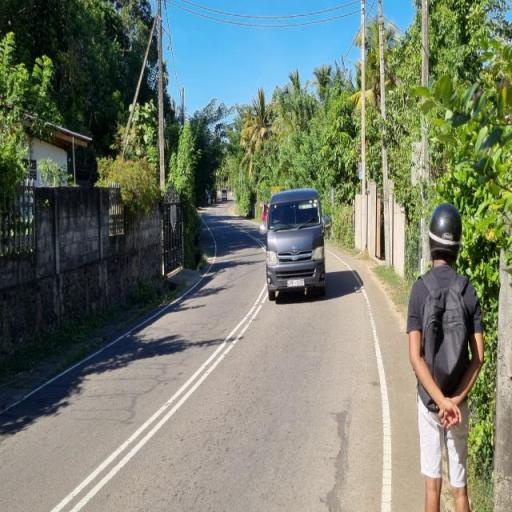double_white_line: (45, 286, 269, 512)
